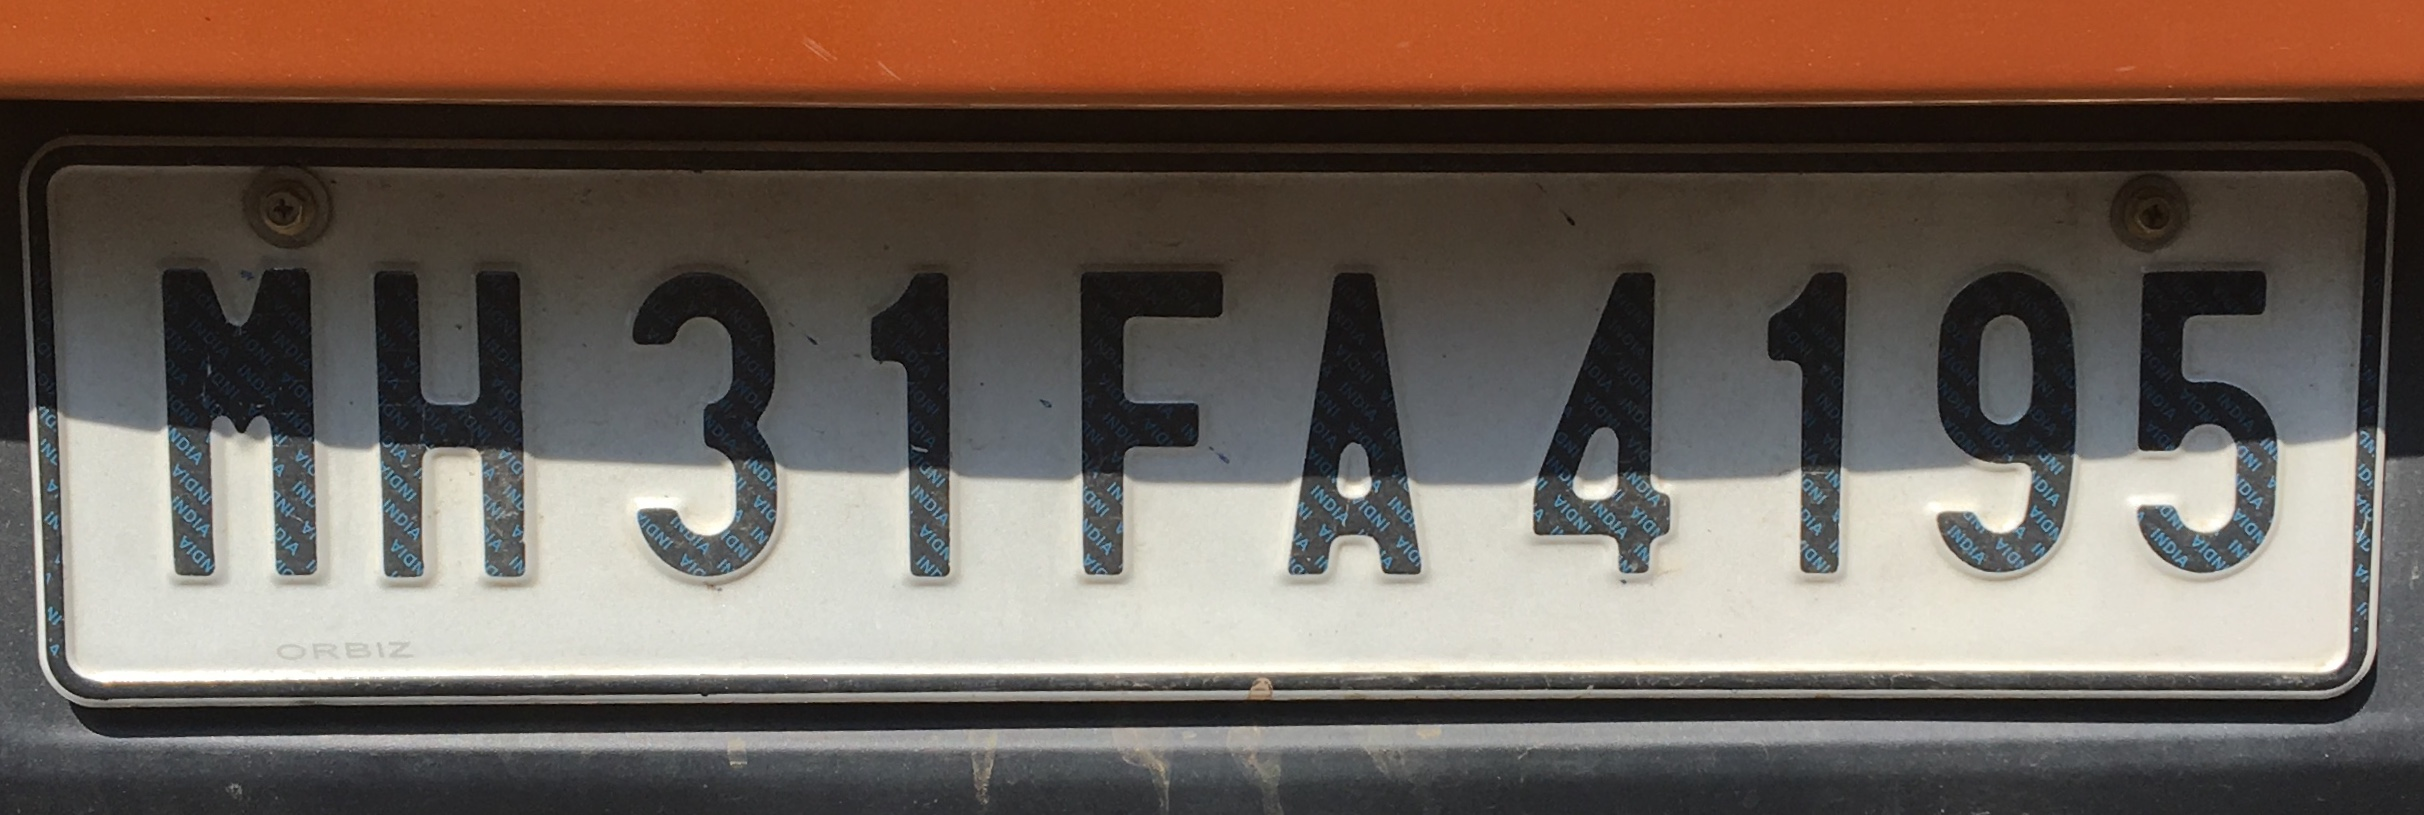numberplate: (18, 135, 2387, 721)
